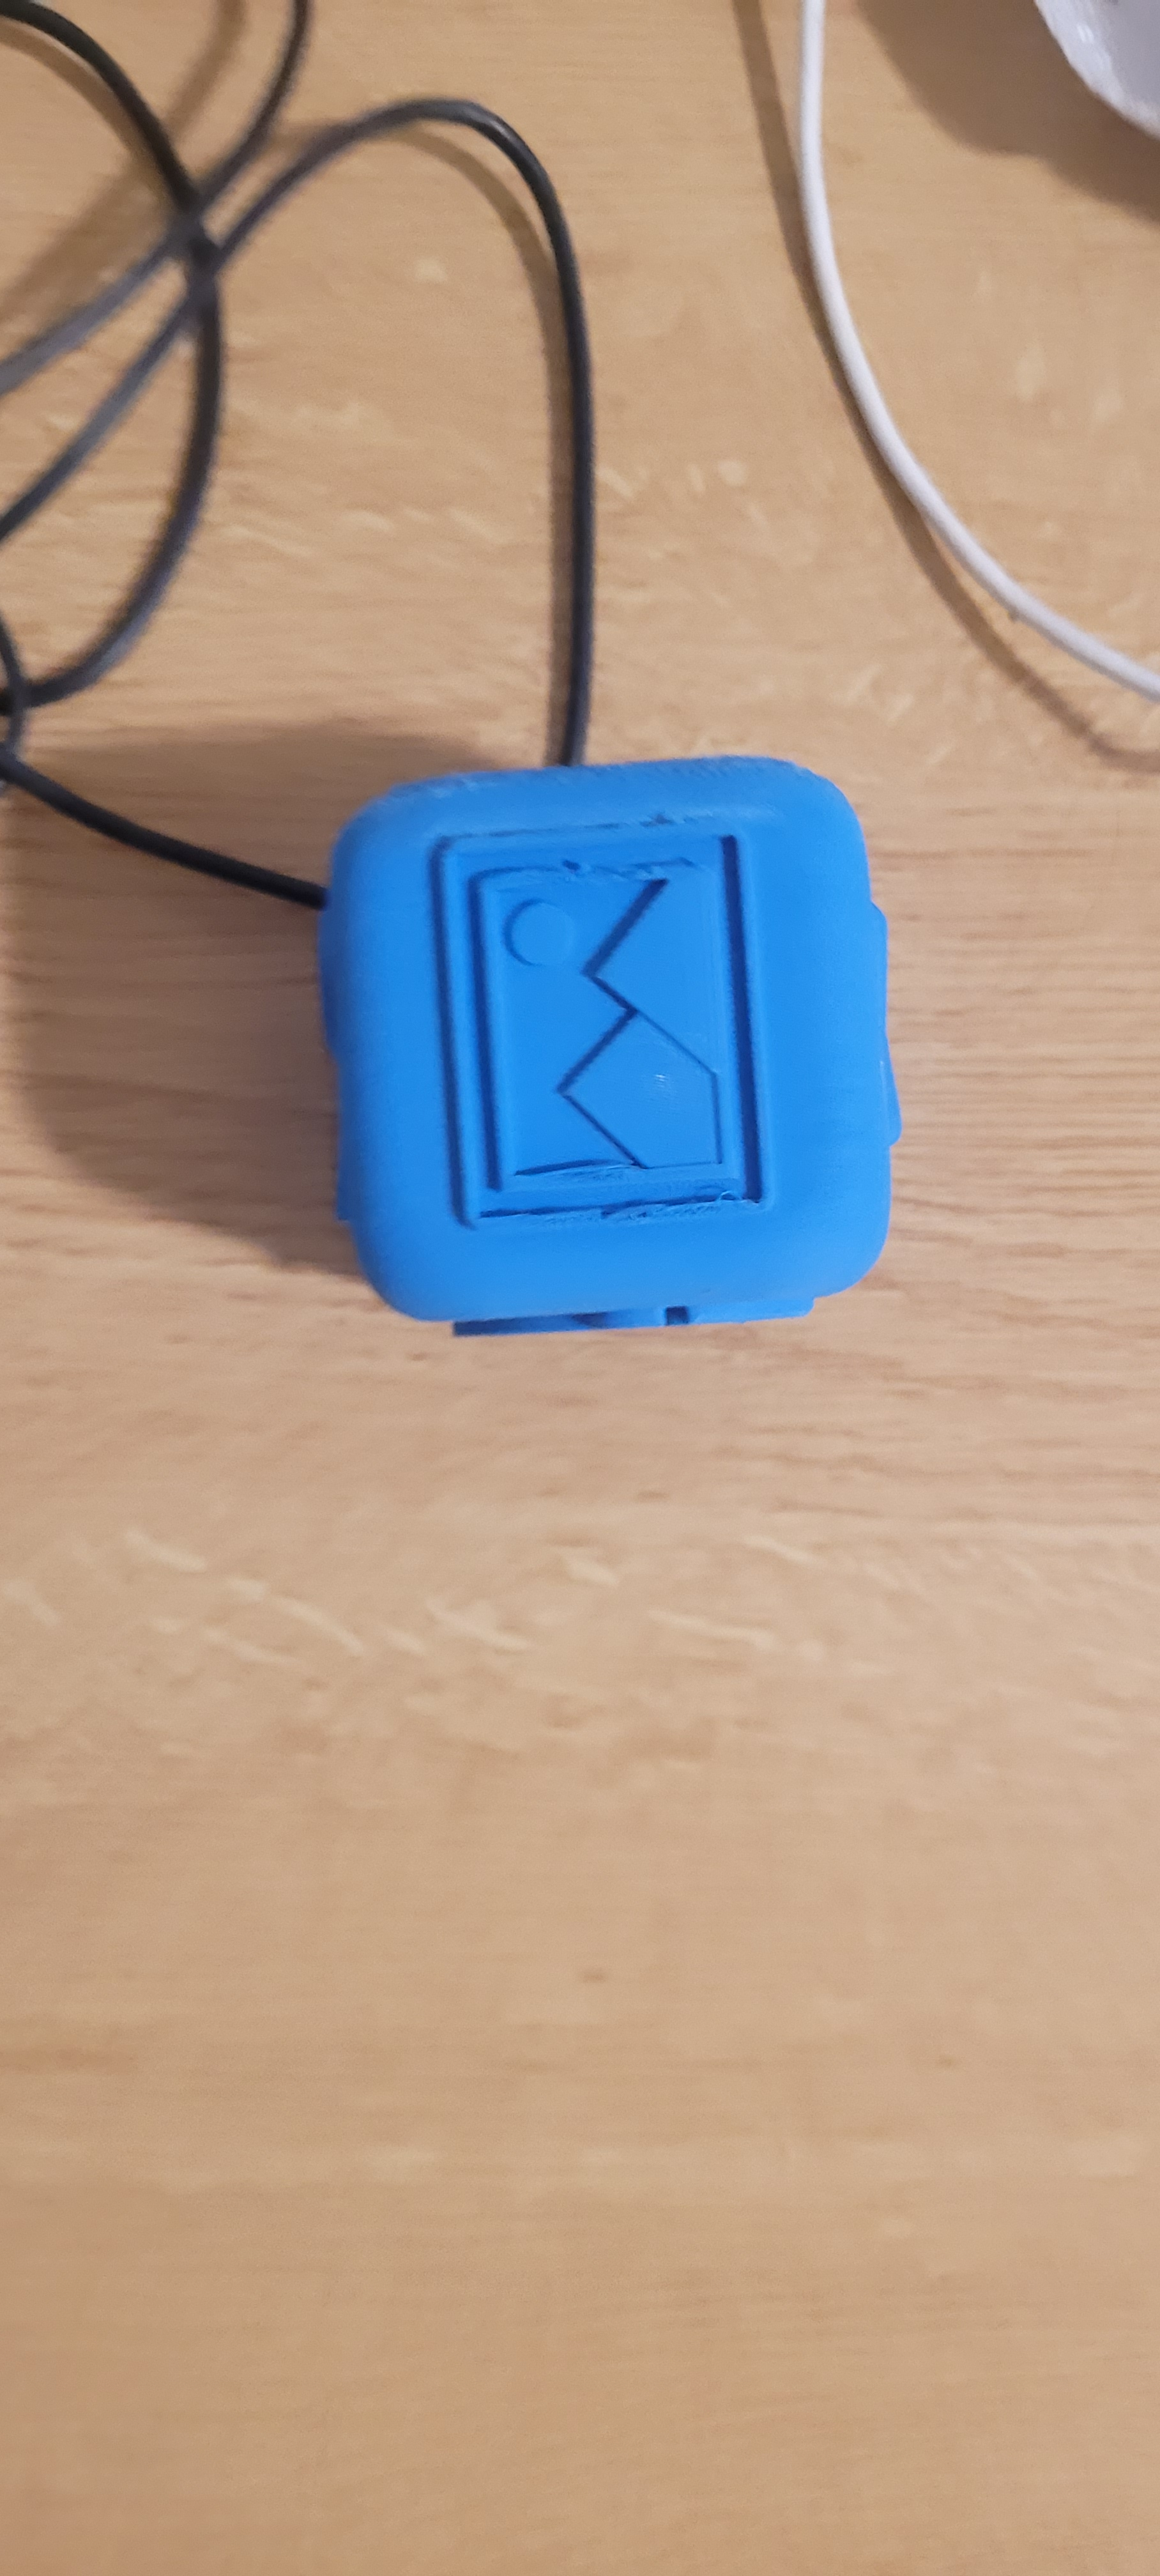Story: (396, 785, 848, 1249)
